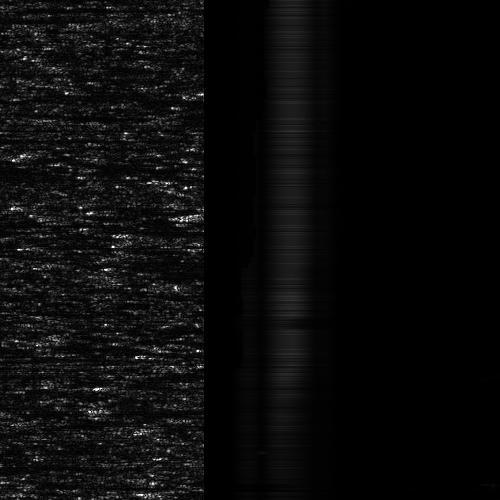object: (0, 2, 54, 11)
shadow: (2, 2, 183, 11), (0, 137, 91, 142)
